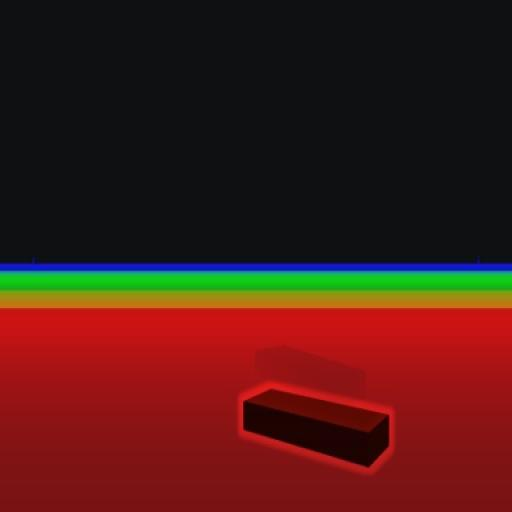debris_container: (240, 384, 392, 468)
